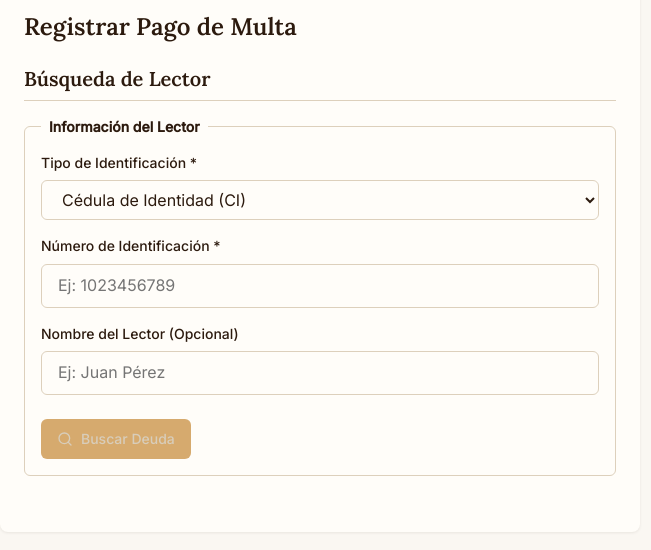
DebtPaymentForm — interactions (HU-06) › enables search button once id_reader is filled
The image size is (651, 550).
Type "R-2301" into the field labelled "Número de Identificación *" at x=320, y=286, box [41,264,599,308]
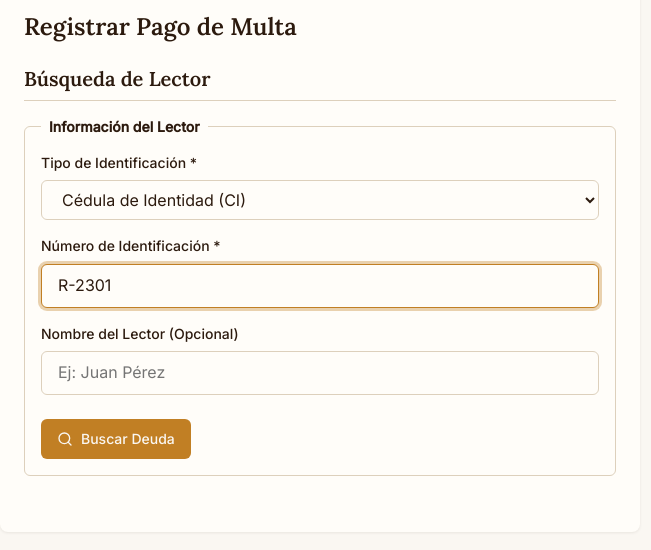
Expected: the button "Buscar Deuda" is enabled, [41,419,191,459]
